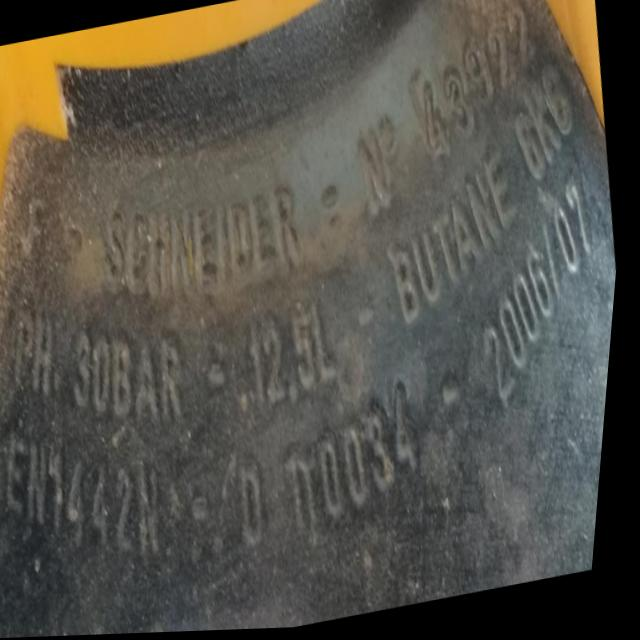ocr: (485, 154, 606, 436), (95, 167, 323, 310), (287, 374, 441, 581), (385, 135, 529, 351), (8, 418, 185, 578), (17, 288, 197, 445), (410, 0, 548, 179), (247, 284, 351, 407), (509, 48, 586, 207), (354, 97, 413, 239), (238, 444, 282, 560), (314, 172, 354, 227), (441, 369, 478, 426), (211, 352, 242, 418), (357, 292, 386, 346), (196, 488, 220, 544)
